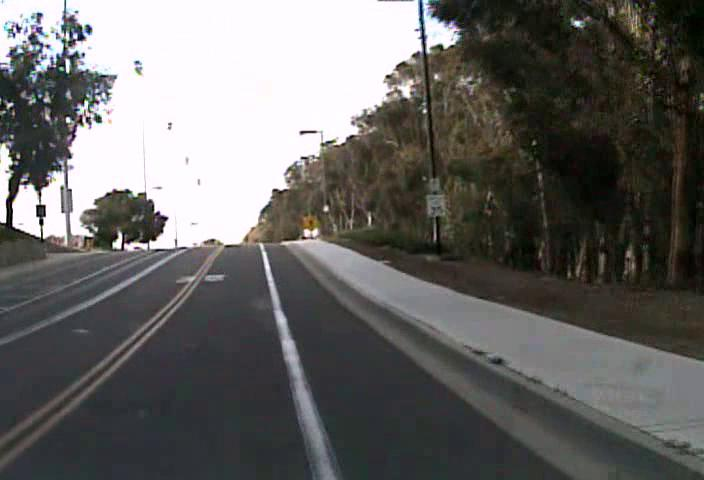speedLimitUrdbl: (425, 193, 447, 218)
